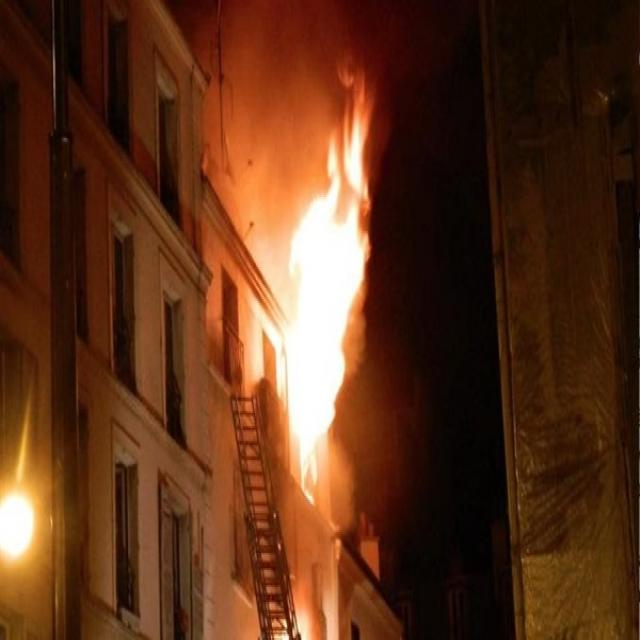Fire: (285, 123, 369, 496)
